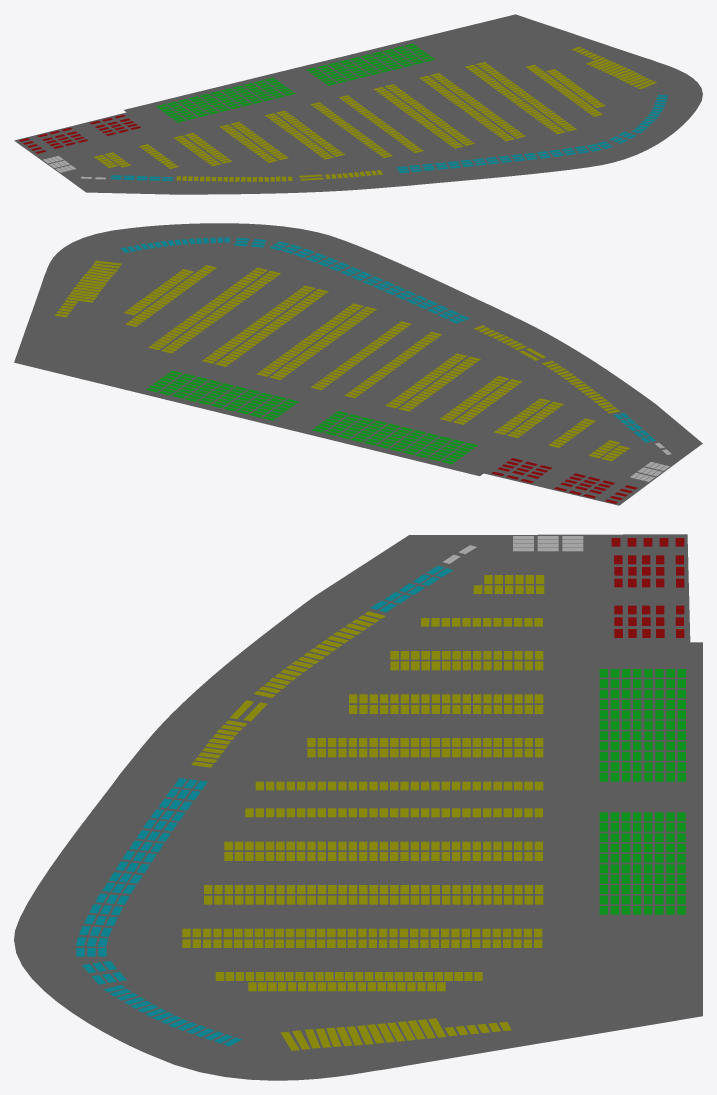
Rendered from depo-japfa.glb.
The picture shows the model from 3 angles, top to bottom: view 1: azimuth 30°, elevation 25°; view 2: azimuth 150°, elevation 25°; view 3: azimuth 270°, elevation 25°; orthographic projection. The views are drawn at different scales.
Parts seen in each view (by area): view 1: Curve_1_1; view 2: Curve_1_1; view 3: Curve_1_1.
Part boxes in pixels (x1=…): Curve_1_1: x1=14, y1=14, x2=702, y2=194; Curve_1_1: x1=14, y1=223, x2=702, y2=505; Curve_1_1: x1=14, y1=534, x2=702, y2=1080.
Bounding box in the file's own units: 250 × 5.96e-06 × 133.
